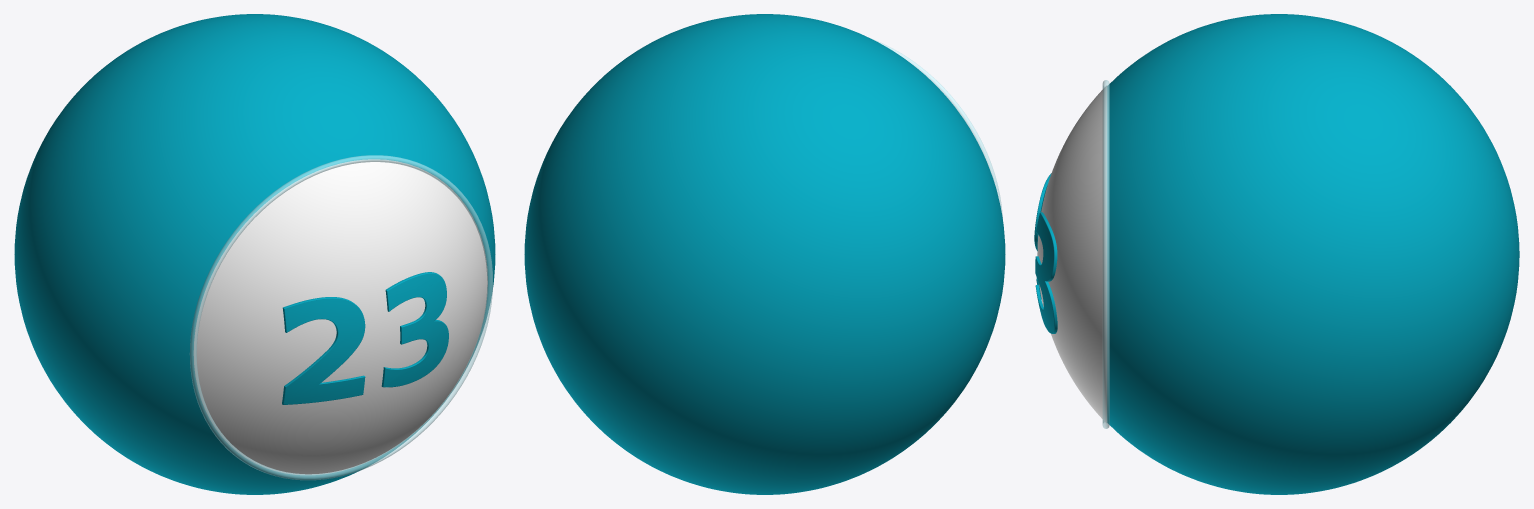
File: LOTTO_BALL_23.glb
The picture shows the model from 3 angles, left to right: view 1: azimuth 30°, elevation 25°; view 2: azimuth 150°, elevation 25°; view 3: azimuth 270°, elevation 25°; orthographic projection.
Visible parts, largest first — view 1: LOTTO_BALL_23; view 2: LOTTO_BALL_23; view 3: LOTTO_BALL_23.
Boxes of the visible parts, x1,y1,x2,y2 form: LOTTO_BALL_23: [14, 14, 495, 494]; LOTTO_BALL_23: [524, 14, 1005, 494]; LOTTO_BALL_23: [1034, 14, 1519, 494].
Size of the model in its own units: 2.6 by 2.6 by 2.62.
